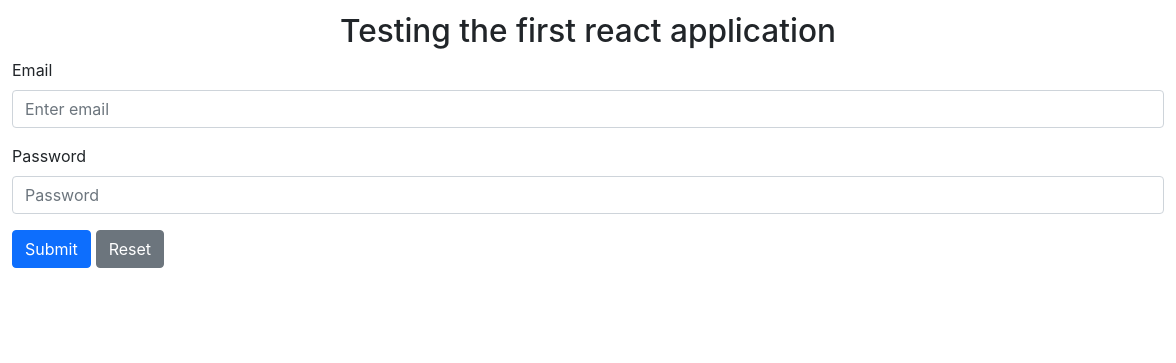
Test: Test the Login Component › should display alert if error
Type "mouli" into the field with placeholder "Enter email". click: (588, 109)
box: [12,90,1164,128]
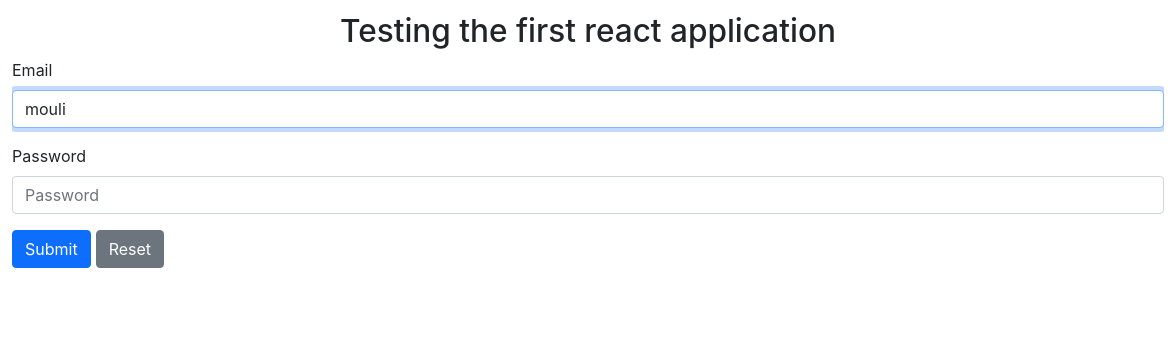
Type "123456" into the password field with placeholder "Password". click: (588, 195)
box: [12,176,1164,214]
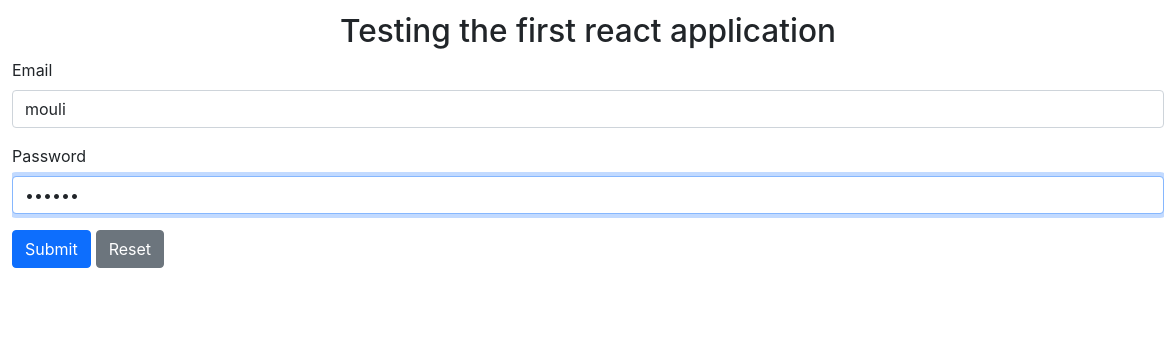
Click the button "Submit". click: (51, 249)
box: [12,230,91,268]
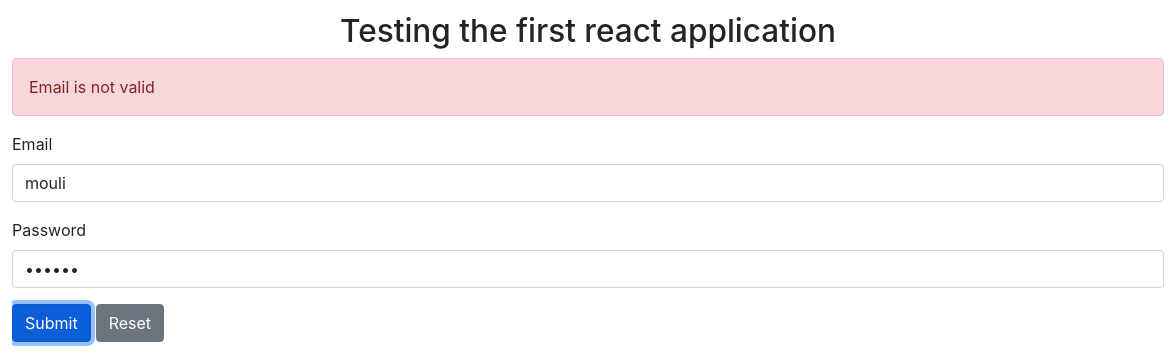
Check: the text "Email is not valid" is shown, box [12,58,1164,116]
